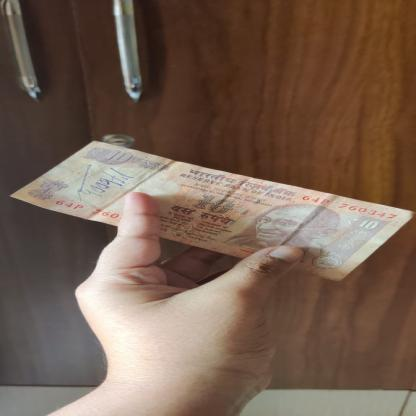Old10Front: (7, 139, 415, 283)
